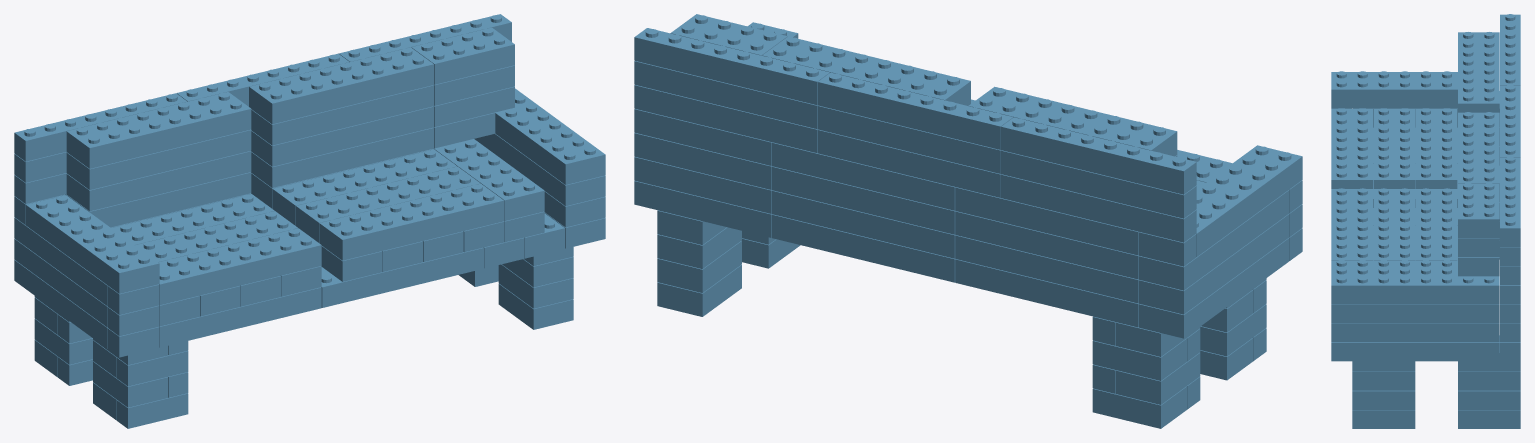
Rendered from brickmore__sofa-L4V2__raw.glb.
3 views of the same model, side by side, from view 1: azimuth 30°, elevation 25°; view 2: azimuth 150°, elevation 25°; view 3: azimuth 270°, elevation 25° (orthographic). The views are drawn at different scales.
Size of the model in its own units: 23.98 by 11.13 by 8.98.
